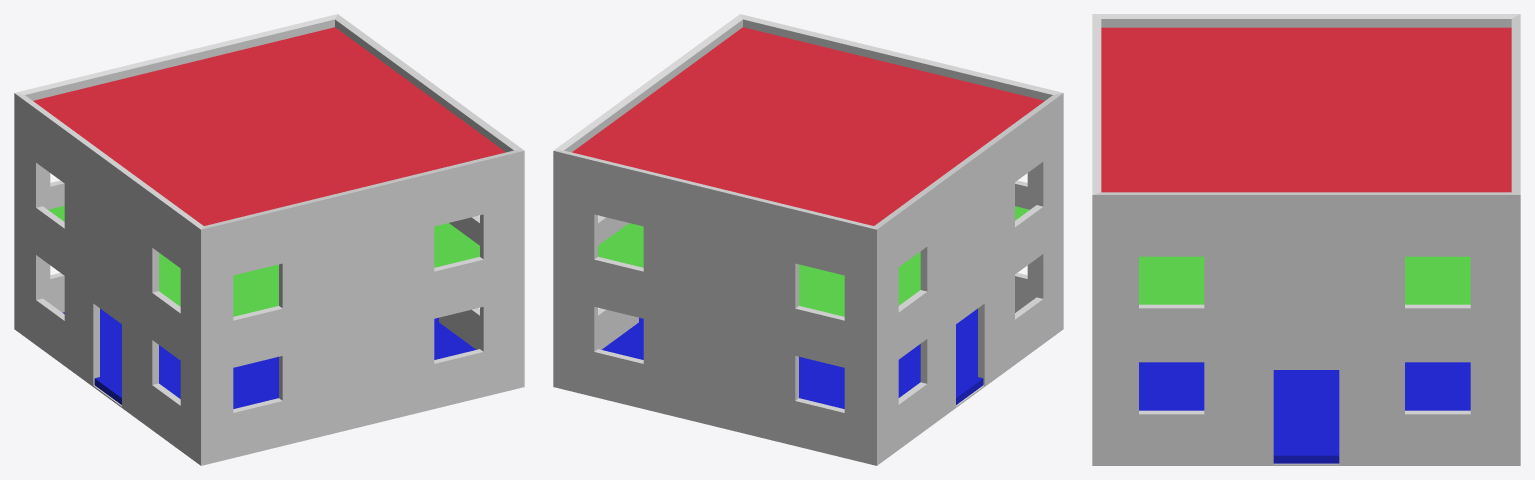
3 renders of one model, left to right at view 1: azimuth 30°, elevation 25°; view 2: azimuth 150°, elevation 25°; view 3: azimuth 270°, elevation 25°, orthographic. The views are drawn at different scales.
Parts seen in each view (by area): view 1: Walls, 3rdFloor, 1stFloor.001, 2ndFloor; view 2: Walls, 3rdFloor, 1stFloor.001, 2ndFloor; view 3: Walls, 3rdFloor, 1stFloor.001, 2ndFloor.
Boxes of the visible parts, bbox=[...] form: Walls: bbox=[14, 14, 524, 465]; 3rdFloor: bbox=[33, 27, 505, 225]; 1stFloor.001: bbox=[62, 308, 476, 408]; 2ndFloor: bbox=[48, 205, 479, 316]; Walls: bbox=[553, 14, 1063, 465]; 3rdFloor: bbox=[572, 27, 1044, 225]; 1stFloor.001: bbox=[601, 308, 1015, 408]; 2ndFloor: bbox=[598, 206, 1029, 316]; Walls: bbox=[1092, 14, 1520, 465]; 3rdFloor: bbox=[1101, 27, 1511, 192]; 1stFloor.001: bbox=[1139, 362, 1470, 463]; 2ndFloor: bbox=[1139, 256, 1470, 304].
Size of what is drawn, in the model's own units: 13.08 by 9.13 by 13.08.
